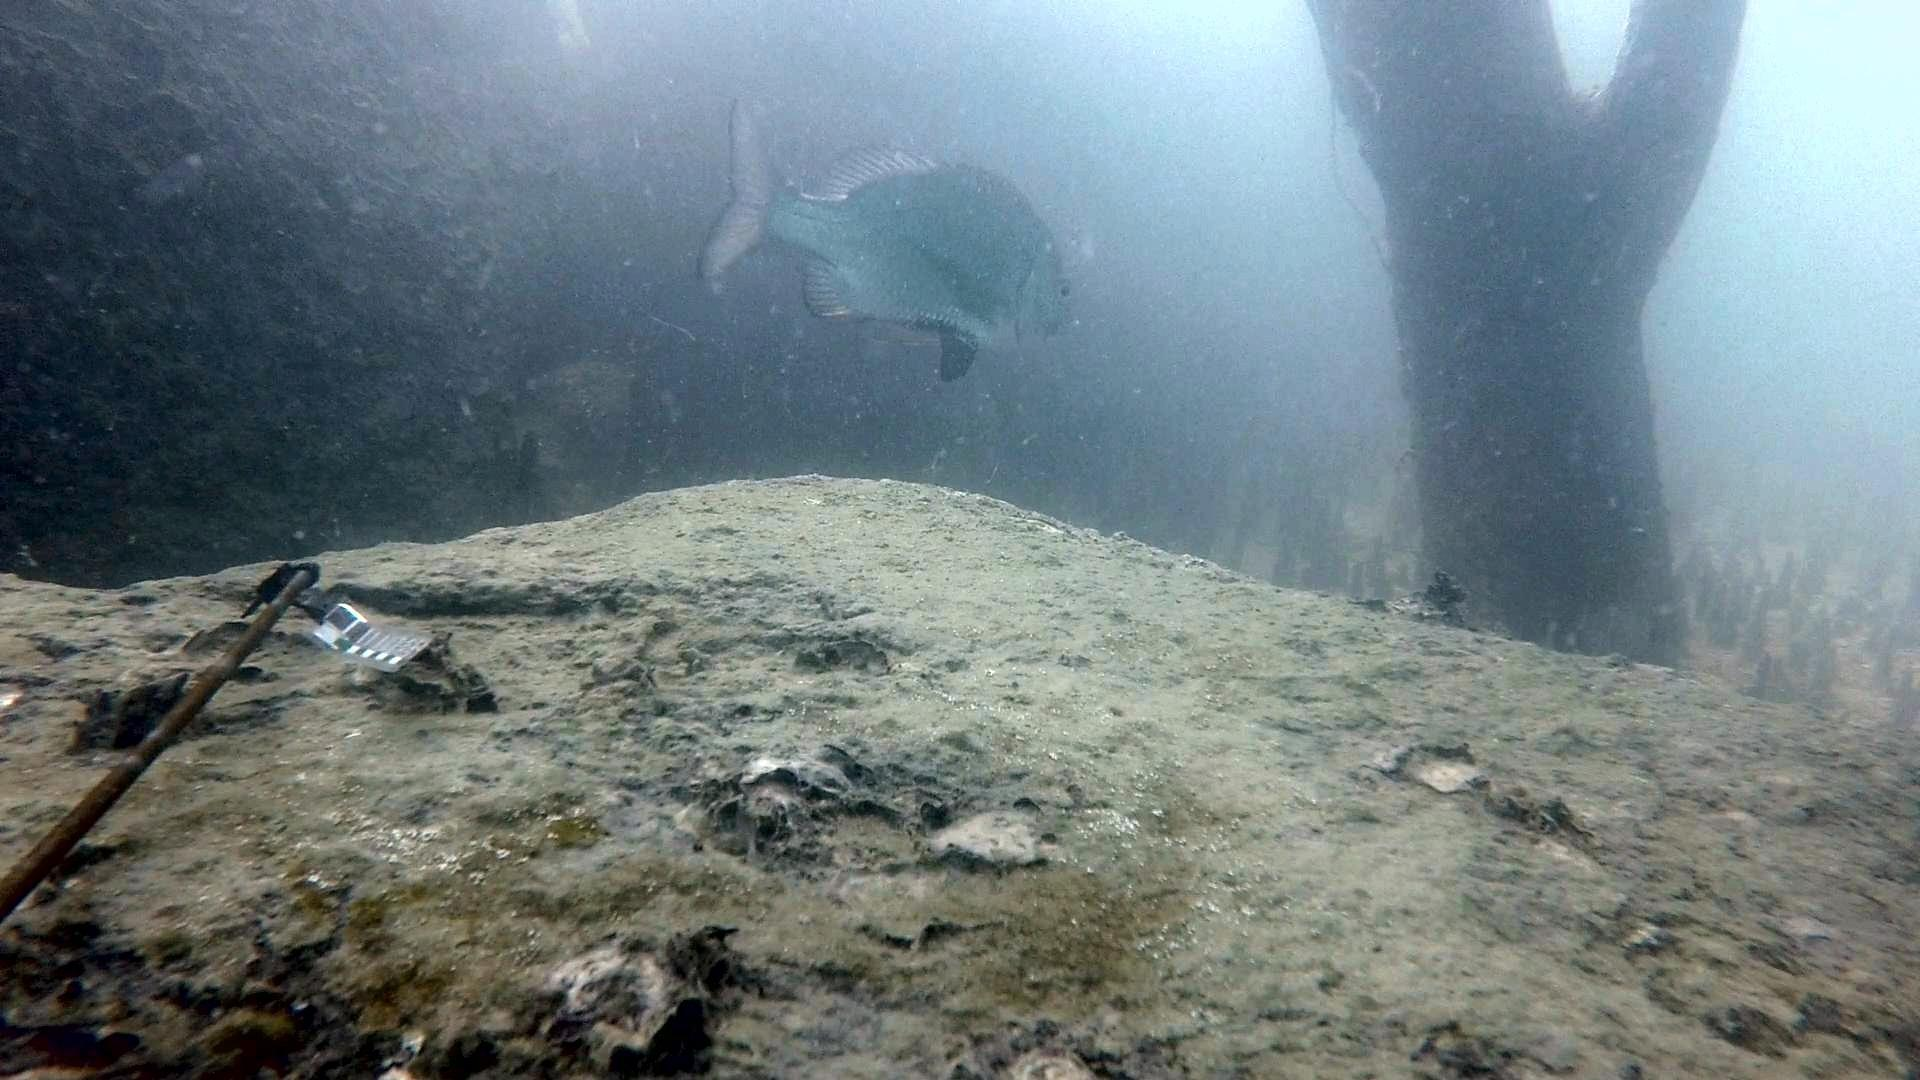acanthopagrus palmaris: (692, 85, 1090, 395)
